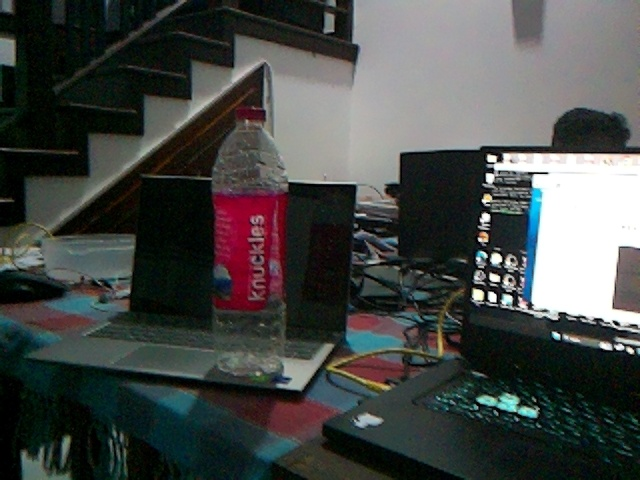bottle: (207, 105, 290, 381)
